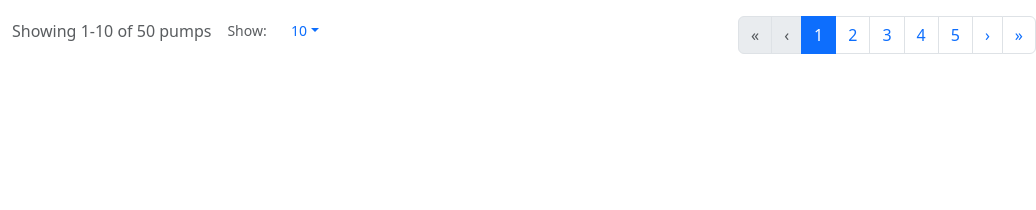
Scenario: PaginationSummary › shows page size options when dropdown is clicked
The width and height of the screenshot is (1036, 210).
Click the button "10" at [305, 30], box [275,16,335,45]
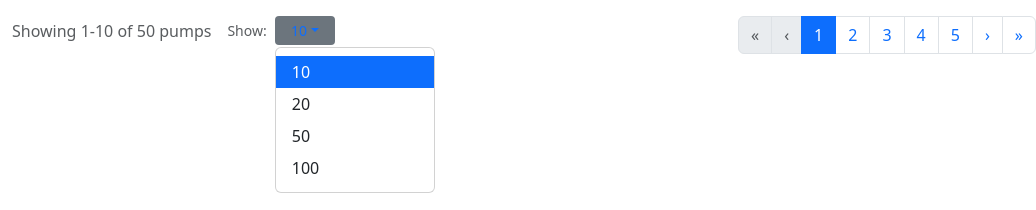
Now the button "20" is shown, box [292,93,310,115]
Now the button "50" is shown, box [292,125,310,147]
Now the button "100" is shown, box [292,157,319,179]
